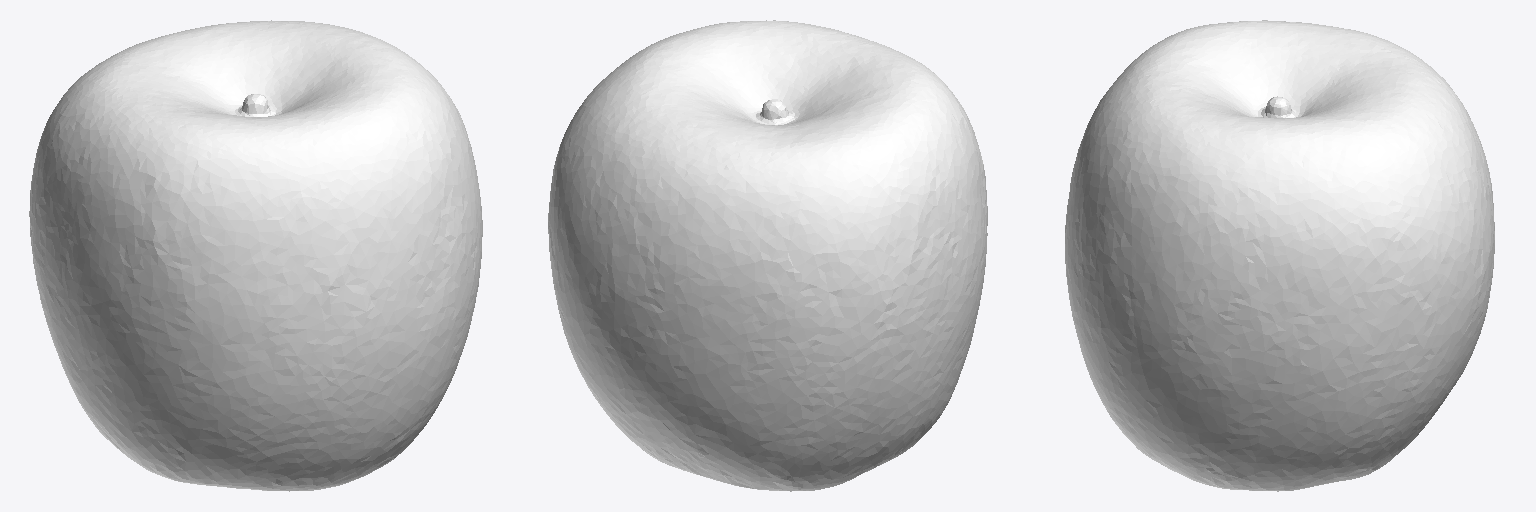
URDF robot description (apple):
<robot name="apple">
    <link name="base_link">
        <visual>
            <origin xyz="0.0 -0.0 -0.0" rpy="0.0 0.0 0.0" />
            <geometry>
                <mesh filename="apple/textured.obj" scale="1 1 1" />
            </geometry>
            <material name="texture">
                <color rgba="1.0 1.0 1.0 1.0" />
            </material>
        </visual>
        <collision>
            <origin xyz="0.0 -0.0 -0.0" rpy="0.0 0.0 0.0" />
            <geometry>
                <mesh filename="apple/textured_coacd_0.stl" scale="1 1 1" />
            </geometry>
        </collision>
        <collision>
            <origin xyz="0.0 -0.0 -0.0" rpy="0.0 0.0 0.0" />
            <geometry>
                <mesh filename="apple/textured_coacd_1.stl" scale="1 1 1" />
            </geometry>
        </collision>
        <collision>
            <origin xyz="0.0 -0.0 -0.0" rpy="0.0 0.0 0.0" />
            <geometry>
                <mesh filename="apple/textured_coacd_2.stl" scale="1 1 1" />
            </geometry>
        </collision>
        <collision>
            <origin xyz="0.0 -0.0 -0.0" rpy="0.0 0.0 0.0" />
            <geometry>
                <mesh filename="apple/textured_coacd_3.stl" scale="1 1 1" />
            </geometry>
        </collision>
        <collision>
            <origin xyz="0.0 -0.0 -0.0" rpy="0.0 0.0 0.0" />
            <geometry>
                <mesh filename="apple/textured_coacd_4.stl" scale="1 1 1" />
            </geometry>
        </collision>
        <inertial>
            <mass value="0.068" />
            <inertia ixx="1e-3" ixy="0.0" ixz="0.0" iyy="1e-3" iyz="0.0" izz="1e-3" />
        </inertial>
    </link>
</robot>

--- Facts derived from the render (not from the file) ---
The picture shows the robot from 3 angles, left to right: view 1: azimuth 30°, elevation 25°; view 2: azimuth 150°, elevation 25°; view 3: azimuth 270°, elevation 25°; orthographic projection.
Model apple with 1 links and 0 joints (none), rooted at base_link, posed every joint at zero.
Visible links, largest first — view 1: base_link; view 2: base_link; view 3: base_link.
Boxes of the visible links, bbox=[...] form: base_link: bbox=[29, 20, 482, 491]; base_link: bbox=[548, 20, 987, 491]; base_link: bbox=[1065, 20, 1494, 491].
Bounding box of the posed robot: 0.0747 × 0.0747 × 0.0712 m (x, y, z).
1 mesh visuals loaded from 1 distinct referenced files (1 OBJ).